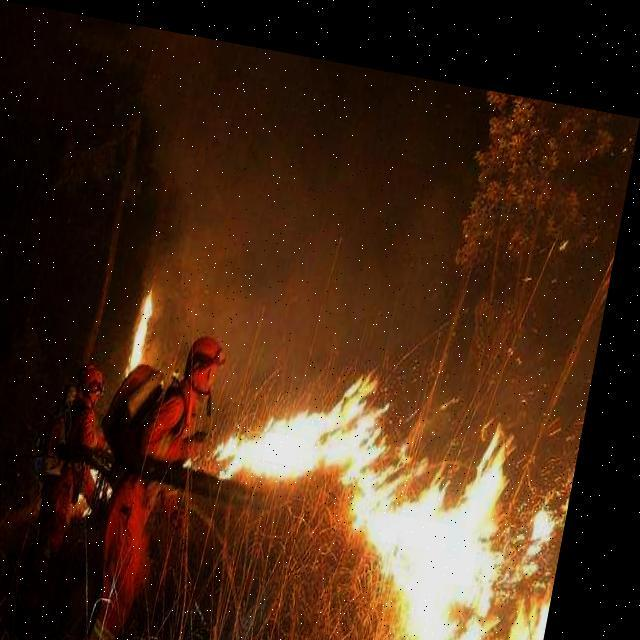Fire: (204, 317, 597, 639), (132, 276, 166, 372)
